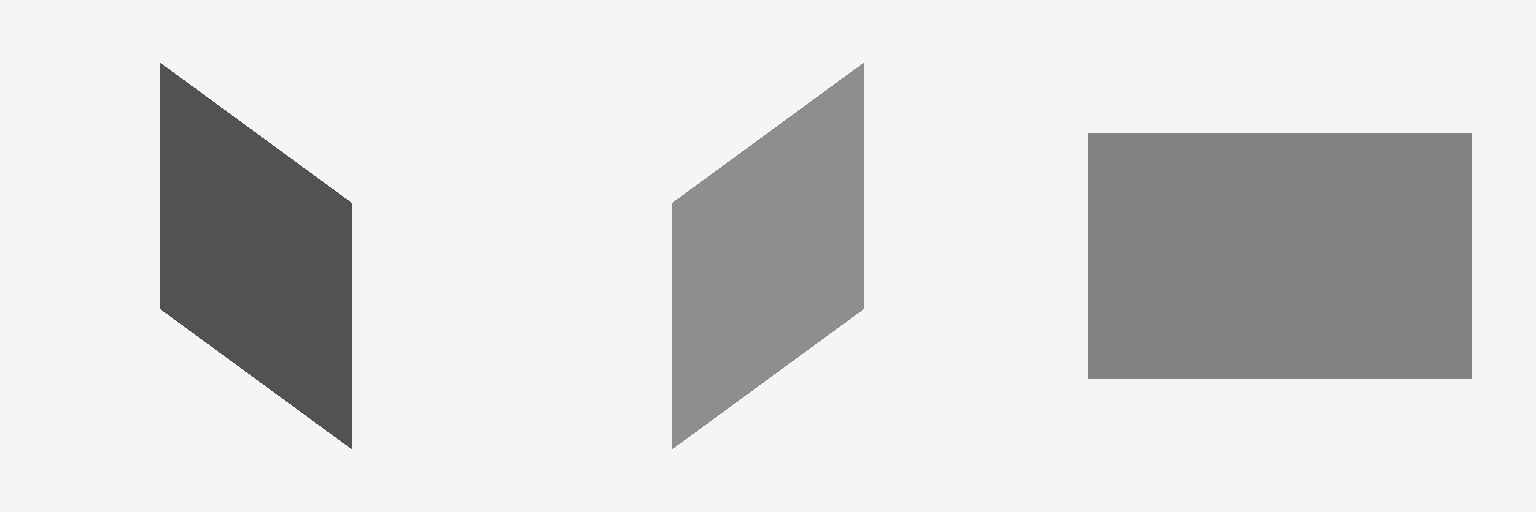
Rendered from harbour.obj.
3 renders of one model, left to right at view 1: azimuth 30°, elevation 25°; view 2: azimuth 150°, elevation 25°; view 3: azimuth 270°, elevation 25°, orthographic.
Parts seen in each view (by area): view 1: harbour; view 2: harbour; view 3: harbour.
Part boxes in pixels (x1,y1,x2,y2): harbour: (160, 63, 351, 448); harbour: (672, 63, 863, 448); harbour: (1088, 133, 1471, 378).
Bounding box in the file's own units: 0 × 21 × 29.7.